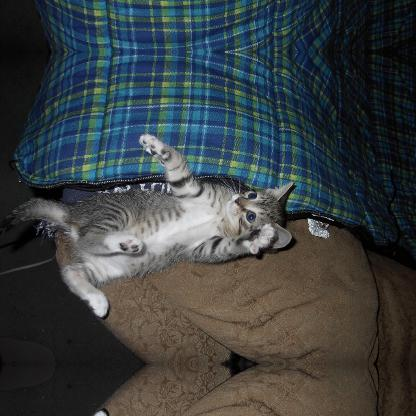Cat: (2, 134, 292, 318)
